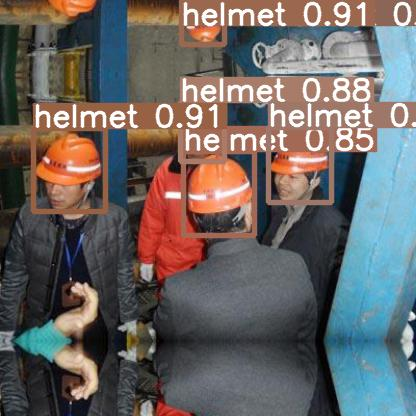helmet: (33, 128, 105, 211), (183, 151, 254, 235), (268, 127, 331, 202), (180, 102, 224, 161), (181, 0, 224, 44), (271, 0, 331, 20)
